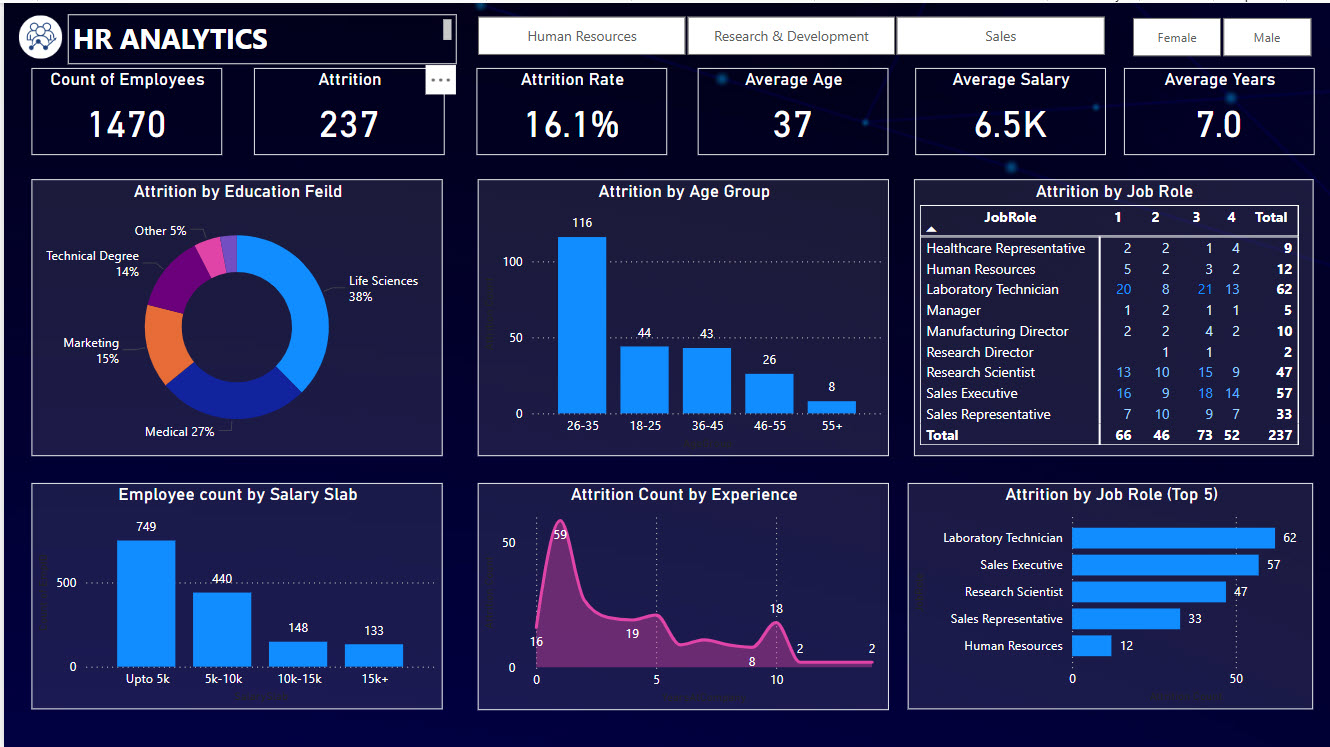

What the dashboard file says about the page in this screenshot:
{"tool":"powerbi","page":{"name":"Page 1","canvas":[1280,720],"ordinal":0},"visuals":[{"type":"card","title":"Count of Employees","fields":{"Values":["CountNonNull(HR_Analytics.EmpID)"]},"box":[26.9,62.7,183.9,83.7],"z":0},{"type":"card","title":"Attrition","fields":{"Values":["HR_Analytics.Attrition Count"]},"box":[241,62.7,183.9,83.7],"z":1000},{"type":"card","title":"Attrition Rate","fields":{"Values":["HR_Analytics.Attrition Percent"]},"box":[456.4,62.7,183.9,83.7],"z":2000},{"type":"card","title":"Average Age","fields":{"Values":["Avg(HR_Analytics.Age)"]},"box":[669.1,62.7,183.9,83.7],"z":3000},{"type":"card","title":"Average Salary","fields":{"Values":["Avg(HR_Analytics.MonthlyIncome)"]},"box":[879,62.7,183.9,83.7],"z":4000},{"type":"card","title":"Average Years","fields":{"Values":["Avg(HR_Analytics.YearsAtCompany)"]},"box":[1080.8,62.7,183.9,83.7],"z":5000},{"type":"donutChart","title":"Attrition by Education Feild","fields":{"Category":["HR_Analytics.EducationField"],"Y":["HR_Analytics.Attrition Count"]},"box":[27.1,170,397.1,267.1],"z":6000},{"type":"columnChart","title":"Attrition by Age Group","fields":{"Y":["HR_Analytics.Attrition Count"],"Category":["HR_Analytics.AgeGroup"]},"box":[457.1,170,397.1,267.1],"z":7000},{"type":"pivotTable","title":"Attrition by Job Role","fields":{"Rows":["HR_Analytics.JobRole"],"Columns":["HR_Analytics.JobSatisfaction"],"Values":["HR_Analytics.Attrition Count"]},"box":[878.6,170,385.7,267.1],"z":8000},{"type":"columnChart","title":"Employee count by Salary Slab","fields":{"Category":["HR_Analytics.SalarySlab"],"Y":["CountNonNull(HR_Analytics.EmpID)"]},"box":[27.1,462.9,397.1,218.6],"z":9000},{"type":"areaChart","title":"Attrition Count by Experience","fields":{"Category":["HR_Analytics.YearsAtCompany"],"Y":["HR_Analytics.Attrition Count"]},"box":[457,463,397,219],"z":10000},{"type":"barChart","title":"Attrition by Job Role (Top 5)","fields":{"Category":["HR_Analytics.JobRole"],"Y":["HR_Analytics.Attrition Count"]},"box":[872.9,462.9,391.4,218.6],"z":11000},{"type":"slicer","fields":{"Values":["HR_Analytics.Gender"]},"box":[1068.5,11.5,211.5,41.5],"z":12000},{"type":"slicer","fields":{"Values":["HR_Analytics.Department"]},"box":[437.1,11.4,644.3,41.4],"z":12001},{"type":"textbox","box":[61.4,11.4,375.7,47.1],"z":12002},{"type":"image","box":[10,7.1,51.4,51.4],"z":12003}]}

Visuals, with their boxes in screenshot pixels (x1, y1, x2, y2), scaled from the page's 1280x720 canvas onto the 1330x747 screenshot:
"Count of Employees" card: box=[28, 65, 219, 152]
"Attrition" card: box=[250, 65, 441, 152]
"Attrition Rate" card: box=[474, 65, 665, 152]
"Average Age" card: box=[695, 65, 886, 152]
"Average Salary" card: box=[913, 65, 1104, 152]
"Average Years" card: box=[1123, 65, 1314, 152]
"Attrition by Education Feild" donutChart: box=[28, 176, 441, 453]
"Attrition by Age Group" columnChart: box=[475, 176, 888, 453]
"Attrition by Job Role" pivotTable: box=[913, 176, 1314, 453]
"Employee count by Salary Slab" columnChart: box=[28, 480, 441, 707]
"Attrition Count by Experience" areaChart: box=[475, 480, 887, 708]
"Attrition by Job Role (Top 5)" barChart: box=[907, 480, 1314, 707]
slicer - HR_Analytics.Gender: box=[1110, 12, 1329, 55]
slicer - HR_Analytics.Department: box=[454, 12, 1124, 55]
textbox: box=[64, 12, 454, 61]
image: box=[10, 7, 64, 61]
